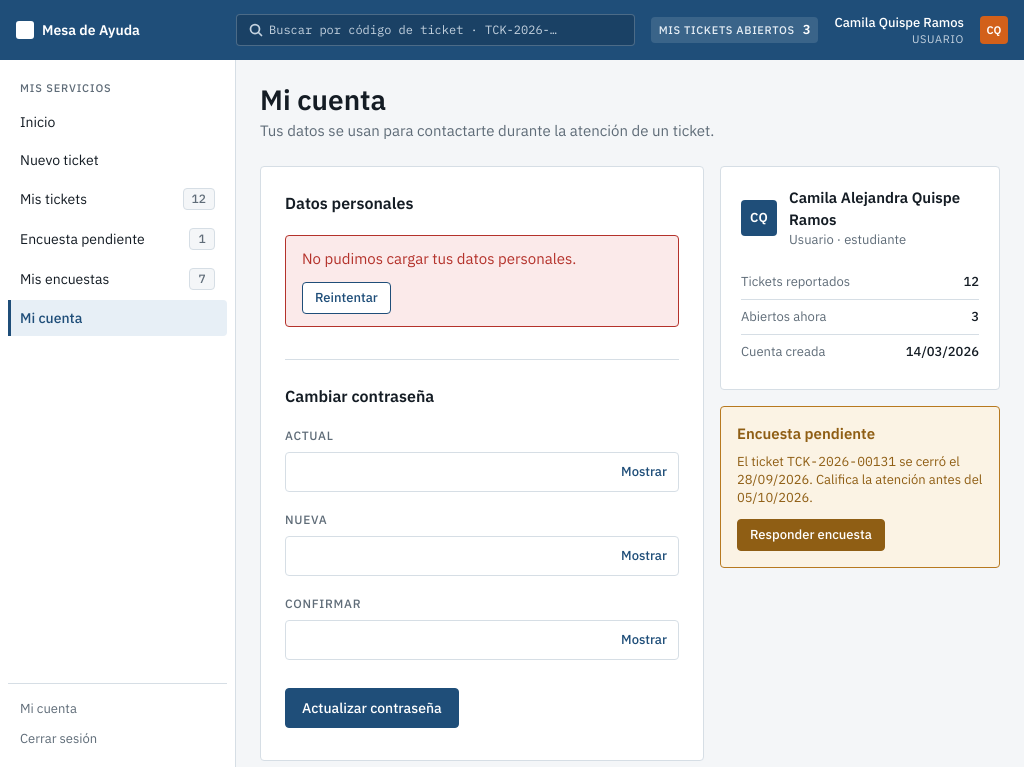
it: AccountPage · carga › si no puede cargar los catálogos del formulario lo informa y permite reintentar
The width and height of the screenshot is (1024, 767).
Expected: the message shows "No pudimos cargar tus datos personales.", [302, 249, 576, 268]
Click the button "Reintentar" at x=346, y=298, box [302, 282, 391, 314]
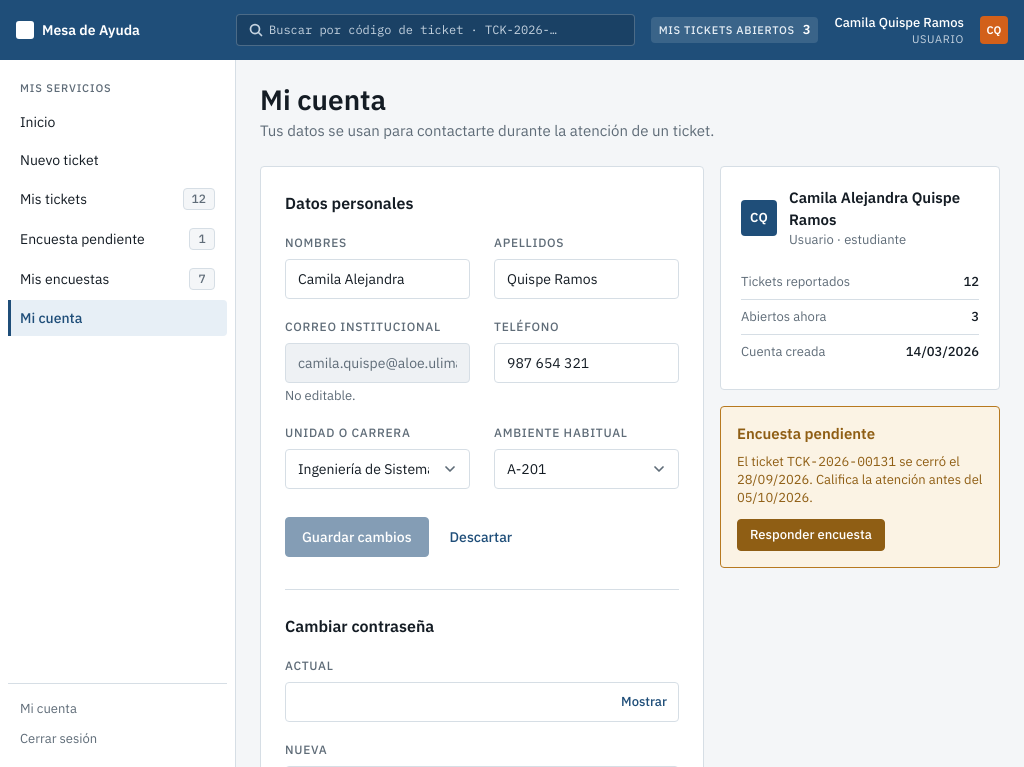
Now the form named "Datos personales" is shown, box [285, 235, 679, 557]
Now the field labelled "Nombres" holds "Camila Alejandra", box [285, 259, 470, 299]
